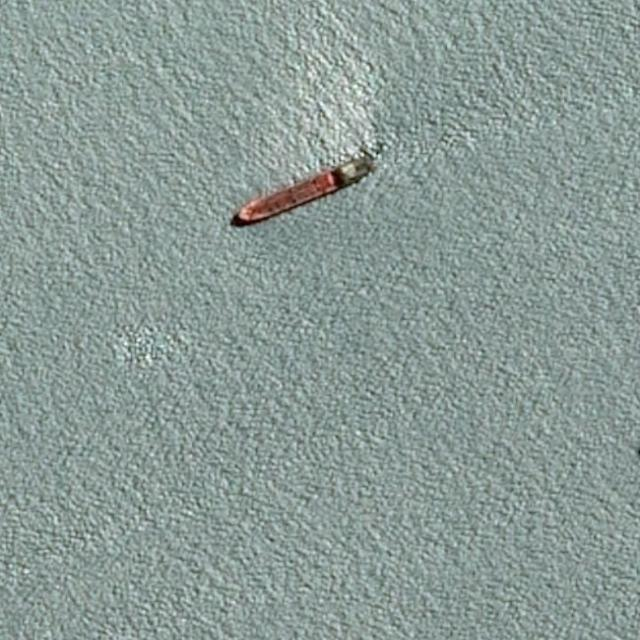Cargo: (227, 149, 382, 234)
